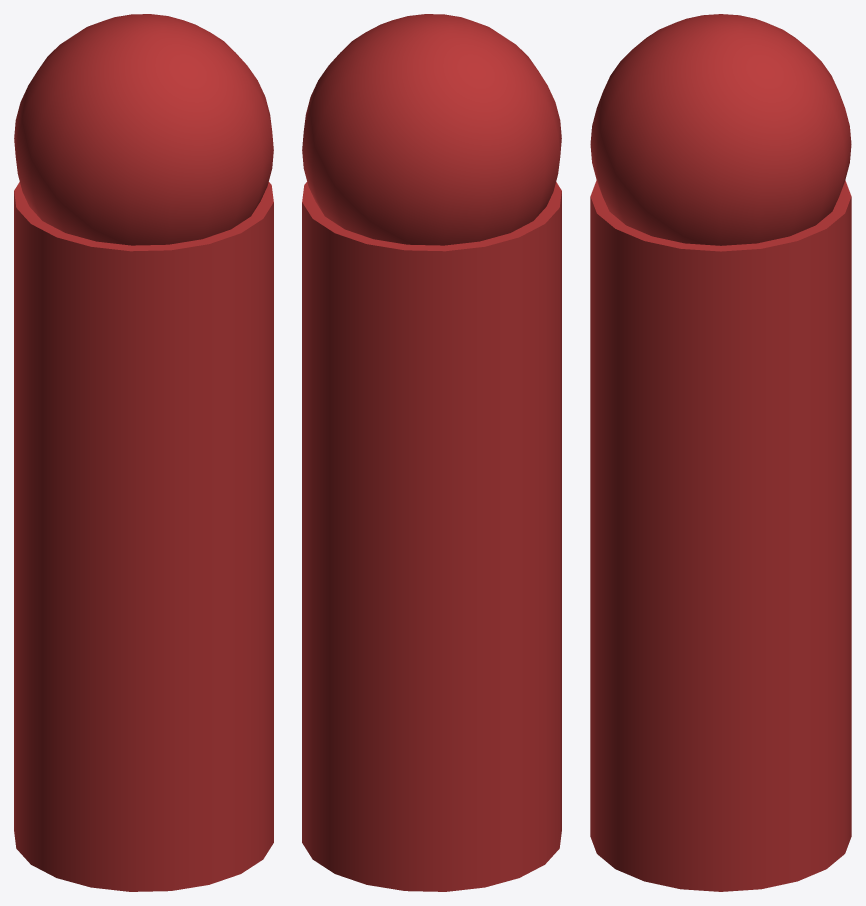
File: couicoui.fbx
3 views of the same model, side by side, from view 1: azimuth 30°, elevation 25°; view 2: azimuth 150°, elevation 25°; view 3: azimuth 270°, elevation 25° (orthographic).
Parts seen in each view (by area): view 1: pCylinder1, pSphere1; view 2: pCylinder1, pSphere1; view 3: pCylinder1, pSphere1.
Boxes of the visible parts, x1=… form: pCylinder1: x1=14, y1=182, x2=273, y2=891; pSphere1: x1=14, y1=14, x2=273, y2=245; pCylinder1: x1=302, y1=182, x2=561, y2=891; pSphere1: x1=302, y1=14, x2=561, y2=245; pCylinder1: x1=590, y1=180, x2=851, y2=891; pSphere1: x1=590, y1=14, x2=851, y2=245.
Bounding box in the file's own units: 2 × 6.85 × 2.
